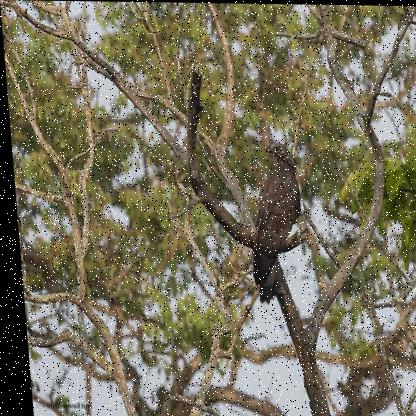Burung: (234, 141, 304, 303)
